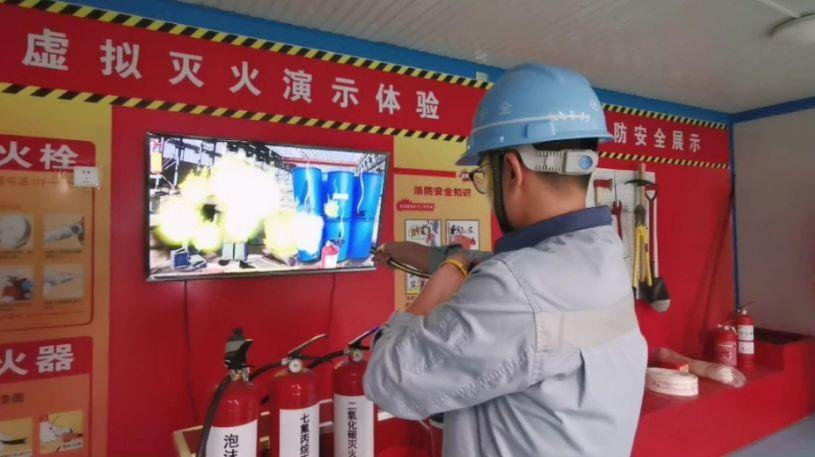helmet: (454, 61, 615, 171)
